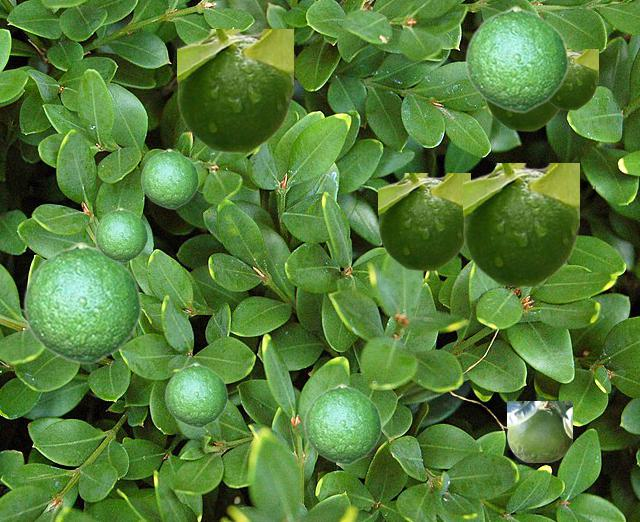dalandan: (22, 241, 141, 364), (177, 29, 292, 152), (463, 163, 578, 286), (464, 5, 568, 112), (378, 173, 469, 270), (303, 383, 381, 464), (164, 362, 227, 427), (507, 401, 571, 461), (140, 148, 198, 208), (94, 207, 147, 262), (549, 49, 597, 109), (484, 100, 560, 130)
